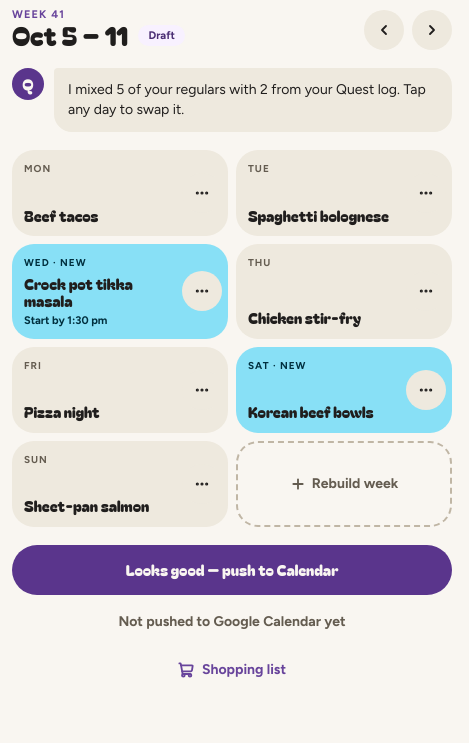
Test: PlanPage › pushes the plan to Calendar, showing progress, then the plan as synced
This screenshot has width=469, height=743.
Expected: the text "Not pushed to Google Calendar yet" is shown, left=118, top=613, right=346, bottom=630
Click the button "Looks good — push to Calendar".
click(232, 570)  # box left=12, top=545, right=452, bottom=595
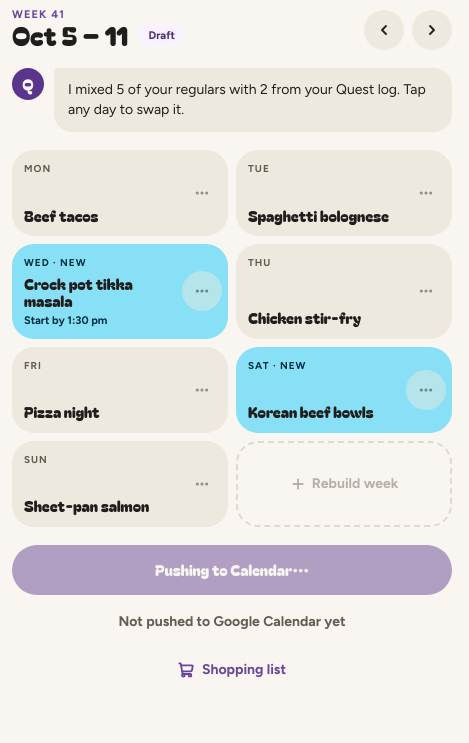
Result: the button "Pushing to Calendar…" is disabled at left=12, top=545, right=452, bottom=595
Result: the button "Rebuild week" is disabled at left=236, top=441, right=452, bottom=527
Click the button "MON Beef tacos".
click(97, 193)  # box left=12, top=150, right=182, bottom=236
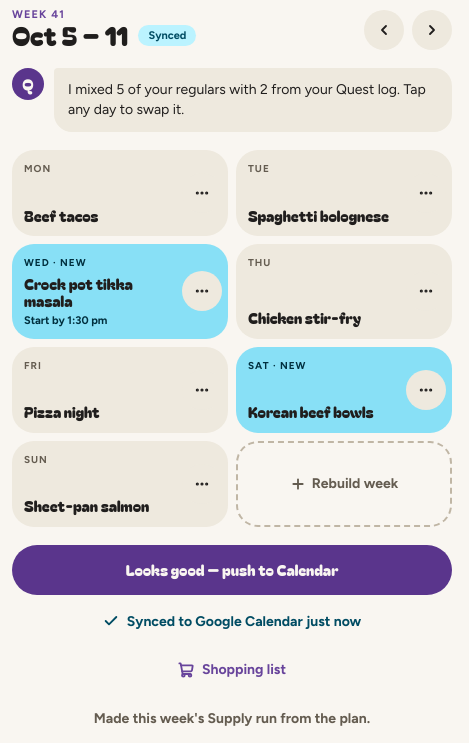
Result: the text "Synced" is shown at left=138, top=25, right=196, bottom=46
Result: the text "Draft" is gone
Result: the button "Looks good — push to Calendar" is enabled at left=12, top=545, right=452, bottom=595
